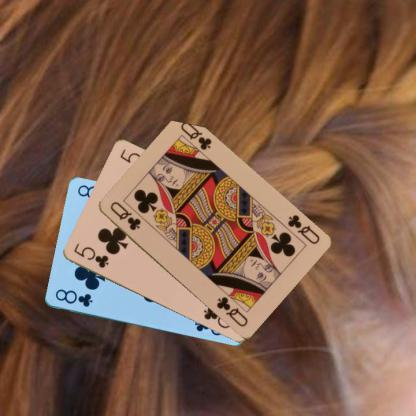5c: (70, 240, 110, 270)
8c: (52, 286, 94, 308)
Qc: (284, 212, 321, 246), (106, 198, 142, 232)
